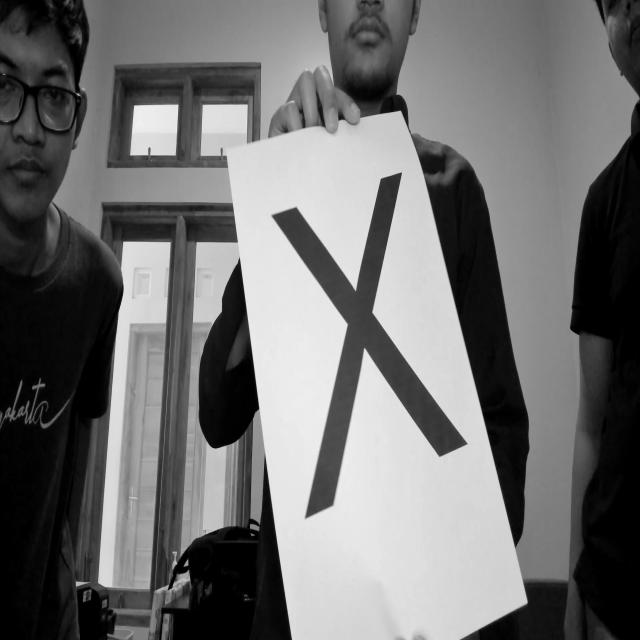x: (242, 158, 487, 536)
